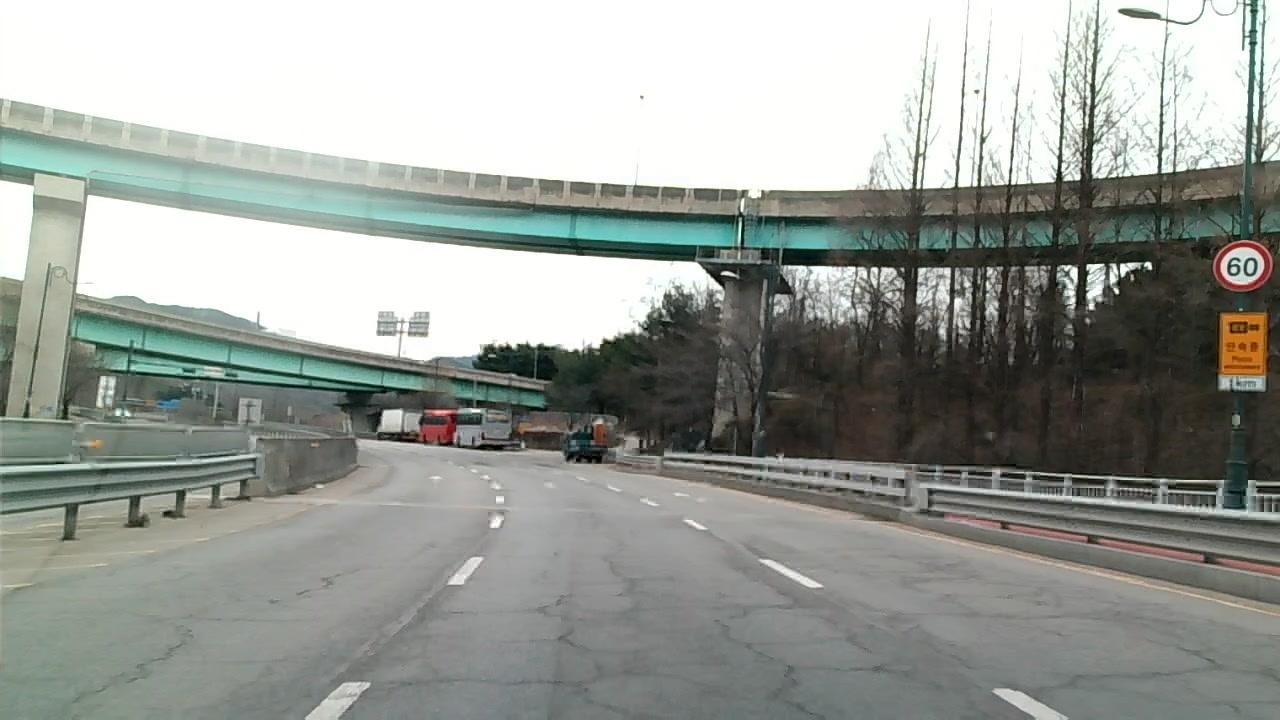hcrack: (1039, 662, 1213, 691), (366, 671, 537, 697), (925, 608, 1063, 625)
vcrack: (710, 590, 875, 720), (535, 578, 614, 720), (75, 626, 202, 710), (275, 568, 349, 605), (1152, 624, 1212, 660)
